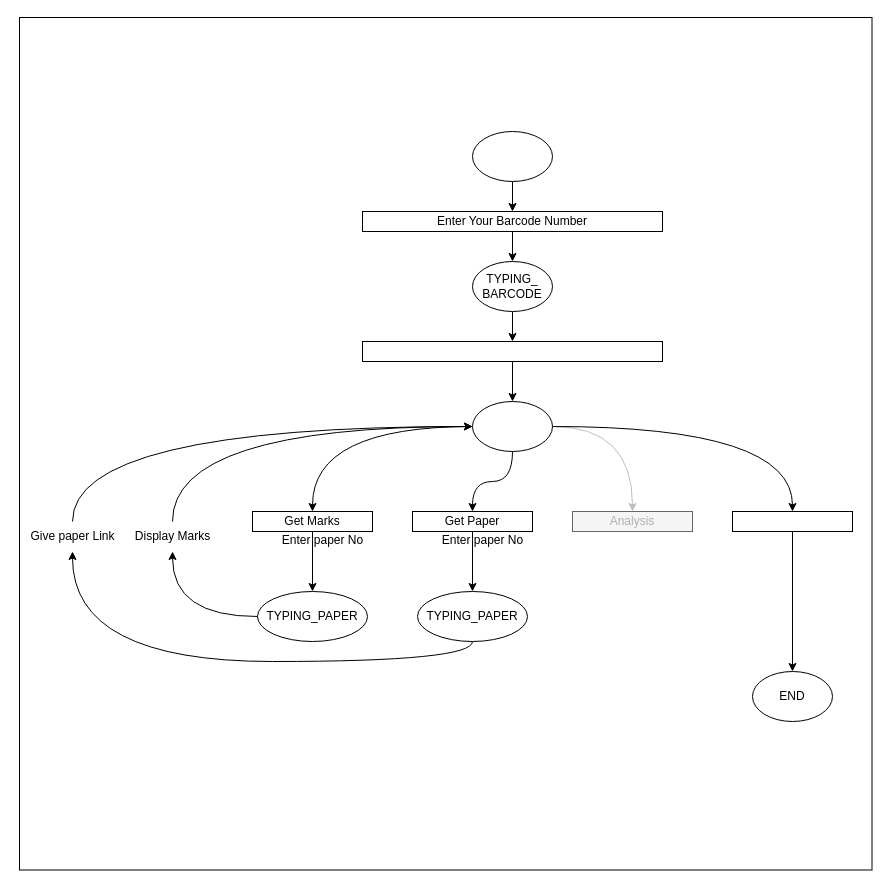
Image size: 889x888. Some labels were removed from this diagram. Each missing label, with the box of its shape:
Choose a choice: (362, 340, 662, 362)
CHOOSING: (472, 400, 552, 452)
Close: (732, 510, 852, 532)
START: (472, 130, 552, 182)
